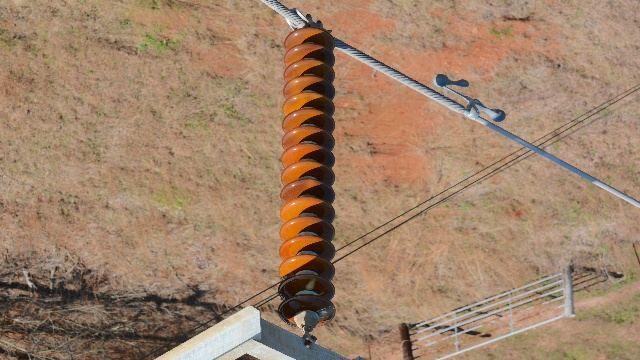insulator_unspecified: (278, 28, 337, 326)
pollution_flashover_local: (314, 306, 335, 318), (304, 278, 315, 291)
